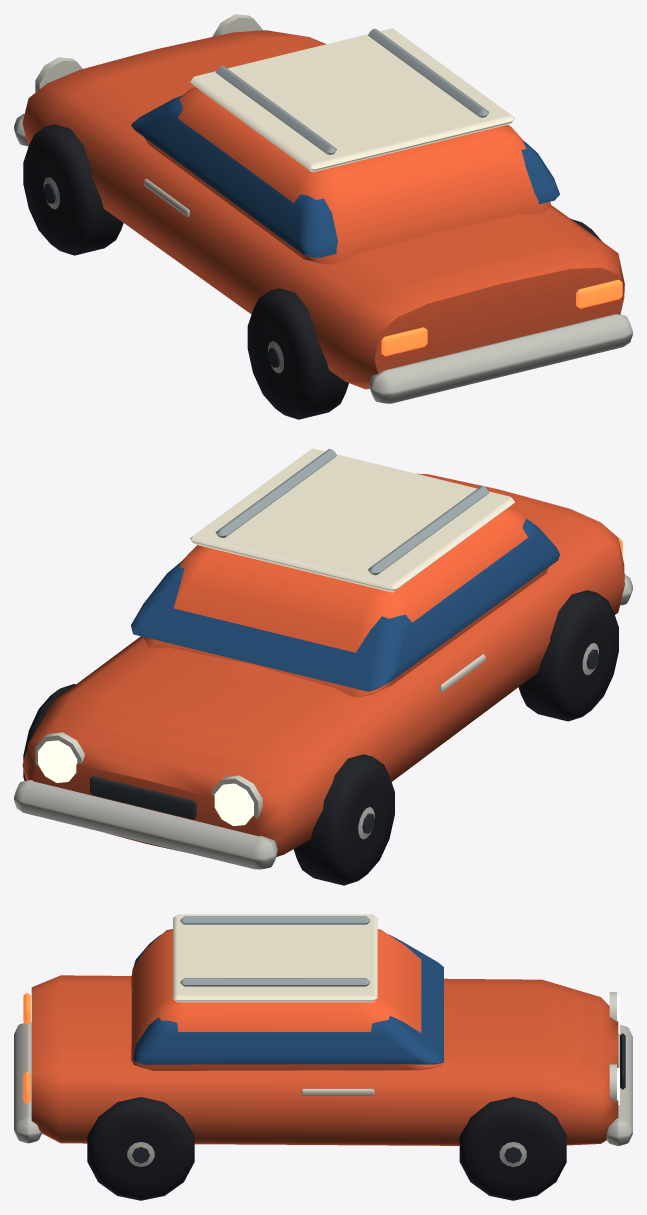
The model's file is car.glb.
3 renders of one model, top to bottom at view 1: azimuth 30°, elevation 25°; view 2: azimuth 150°, elevation 25°; view 3: azimuth 270°, elevation 25°, orthographic. The views are drawn at different scales.
Parts seen in each view (by area): view 1: car Car paint, car Warm white, car Tyre black, car Tinted glass, car Steel, car Ember glow; view 2: car Car paint, car Warm white, car Tinted glass, car Tyre black, car Steel, car Lamp glow, car Gunmetal; view 3: car Car paint, car Warm white, car Tyre black, car Tinted glass, car Steel, car Gunmetal, car Ember glow.
Boxes of the visible parts, x1,y1,x2,y2 form: car Car paint: [22, 30, 624, 389]; car Warm white: [14, 14, 632, 403]; car Tyre black: [23, 124, 602, 419]; car Tinted glass: [131, 95, 559, 257]; car Steel: [215, 28, 489, 154]; car Ember glow: [381, 279, 622, 356]; car Car paint: [22, 473, 624, 856]; car Warm white: [14, 448, 632, 869]; car Tinted glass: [131, 518, 559, 691]; car Tyre black: [23, 590, 618, 885]; car Steel: [215, 449, 489, 575]; car Lamp glow: [38, 740, 253, 825]; car Gunmetal: [90, 649, 598, 833]; car Car paint: [31, 929, 618, 1145]; car Warm white: [14, 914, 632, 1166]; car Tyre black: [87, 1097, 566, 1200]; car Tinted glass: [133, 934, 443, 1064]; car Steel: [180, 916, 370, 986]; car Gunmetal: [132, 1033, 625, 1163]; car Ember glow: [23, 993, 30, 1103].
Size of the model in its own units: 2.11 by 1.46 by 4.24.
Materials: 8 (5 with a texture image).
